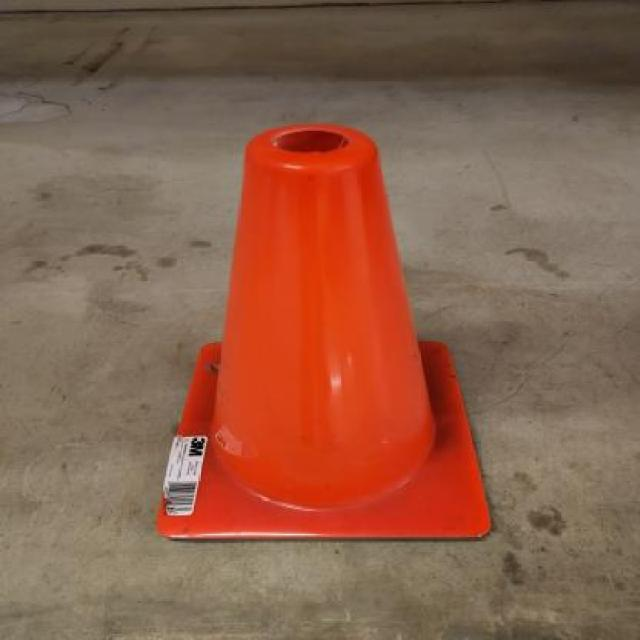traffic cone: (128, 109, 508, 559)
